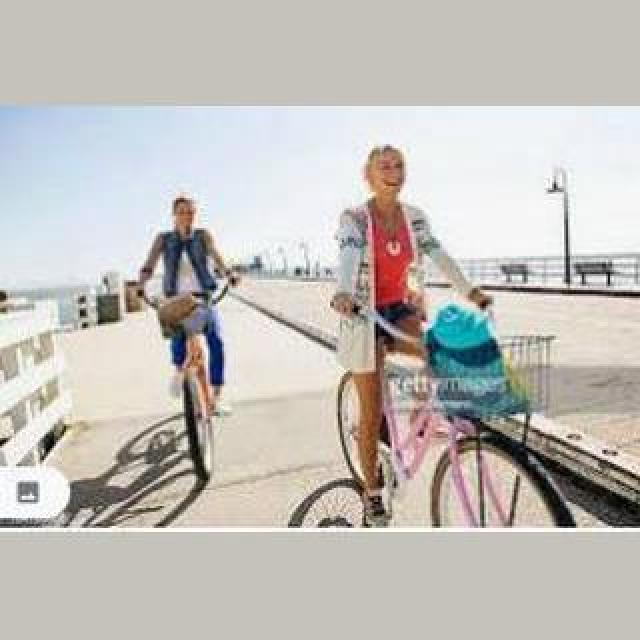MC-Bike: (326, 138, 470, 520), (134, 192, 236, 420)
Person: (298, 308, 570, 528), (146, 292, 228, 482)
